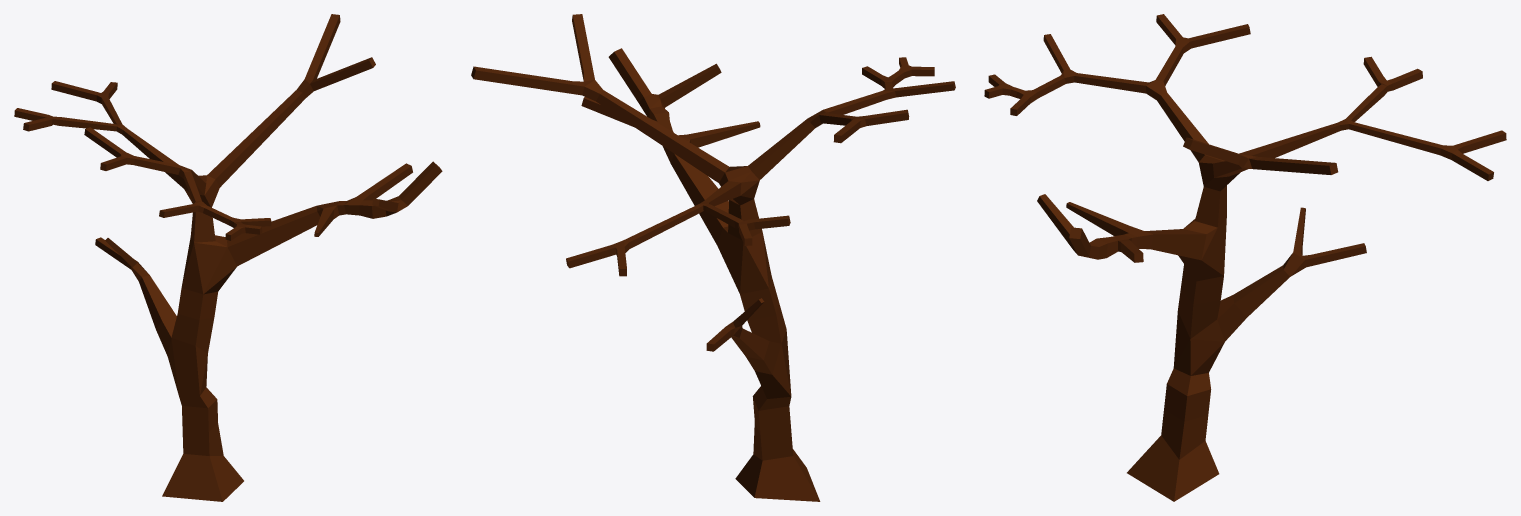
Rendered from tree02.glb.
3 views of the same model, side by side, from view 1: azimuth 30°, elevation 25°; view 2: azimuth 150°, elevation 25°; view 3: azimuth 270°, elevation 25° (orthographic). The views are drawn at different scales.
Parts seen in each view (by area): view 1: Cube; view 2: Cube; view 3: Cube.
Part boxes in pixels (x1,y1,x2,y2): Cube: [14, 14, 442, 501]; Cube: [471, 14, 955, 501]; Cube: [984, 14, 1506, 501].
Bounding box in the file's own units: 6.79 × 7.94 × 8.6.
